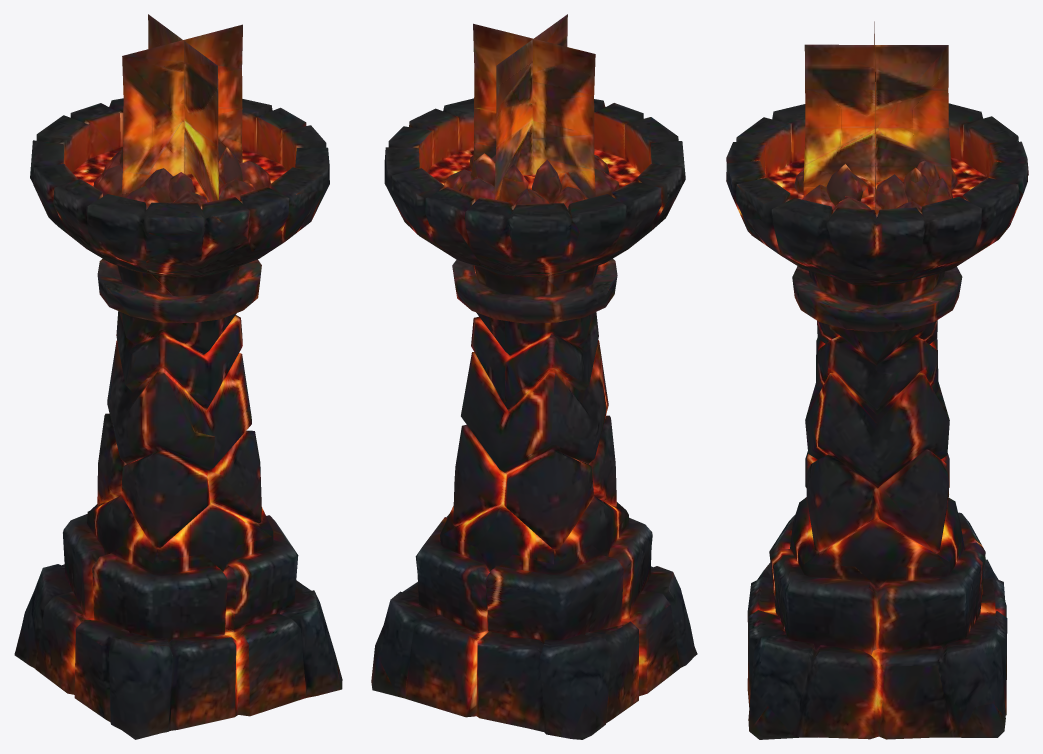
Rendered from brazier.glb.
The picture shows the model from 3 angles, left to right: view 1: azimuth 30°, elevation 25°; view 2: azimuth 150°, elevation 25°; view 3: azimuth 270°, elevation 25°; orthographic projection.
Visible parts, largest first — view 1: mesh_node; view 2: mesh_node; view 3: mesh_node.
Part boxes in pixels (bbox=[...]): mesh_node: bbox=[14, 14, 342, 739]; mesh_node: bbox=[371, 14, 697, 739]; mesh_node: bbox=[726, 21, 1028, 739].
Bounding box in the file's own units: 0.4287 × 1 × 0.4248.
1 material, 1 textured.
